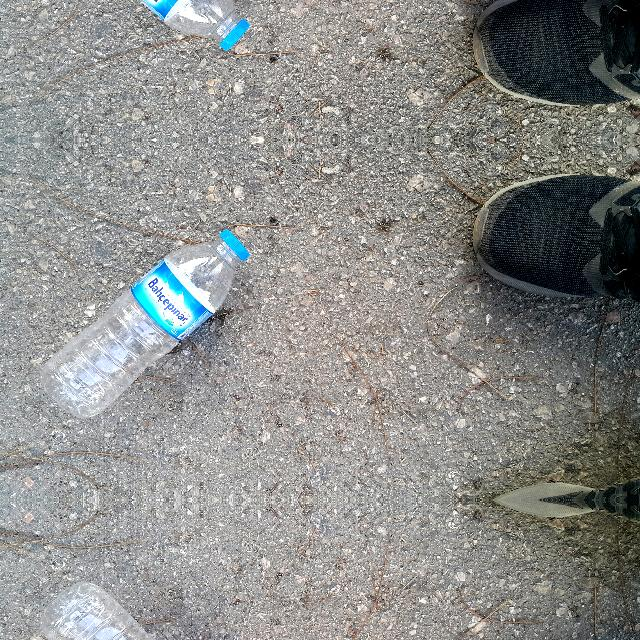Plastic: (29, 220, 259, 428), (29, 572, 259, 640), (29, 0, 259, 60)
